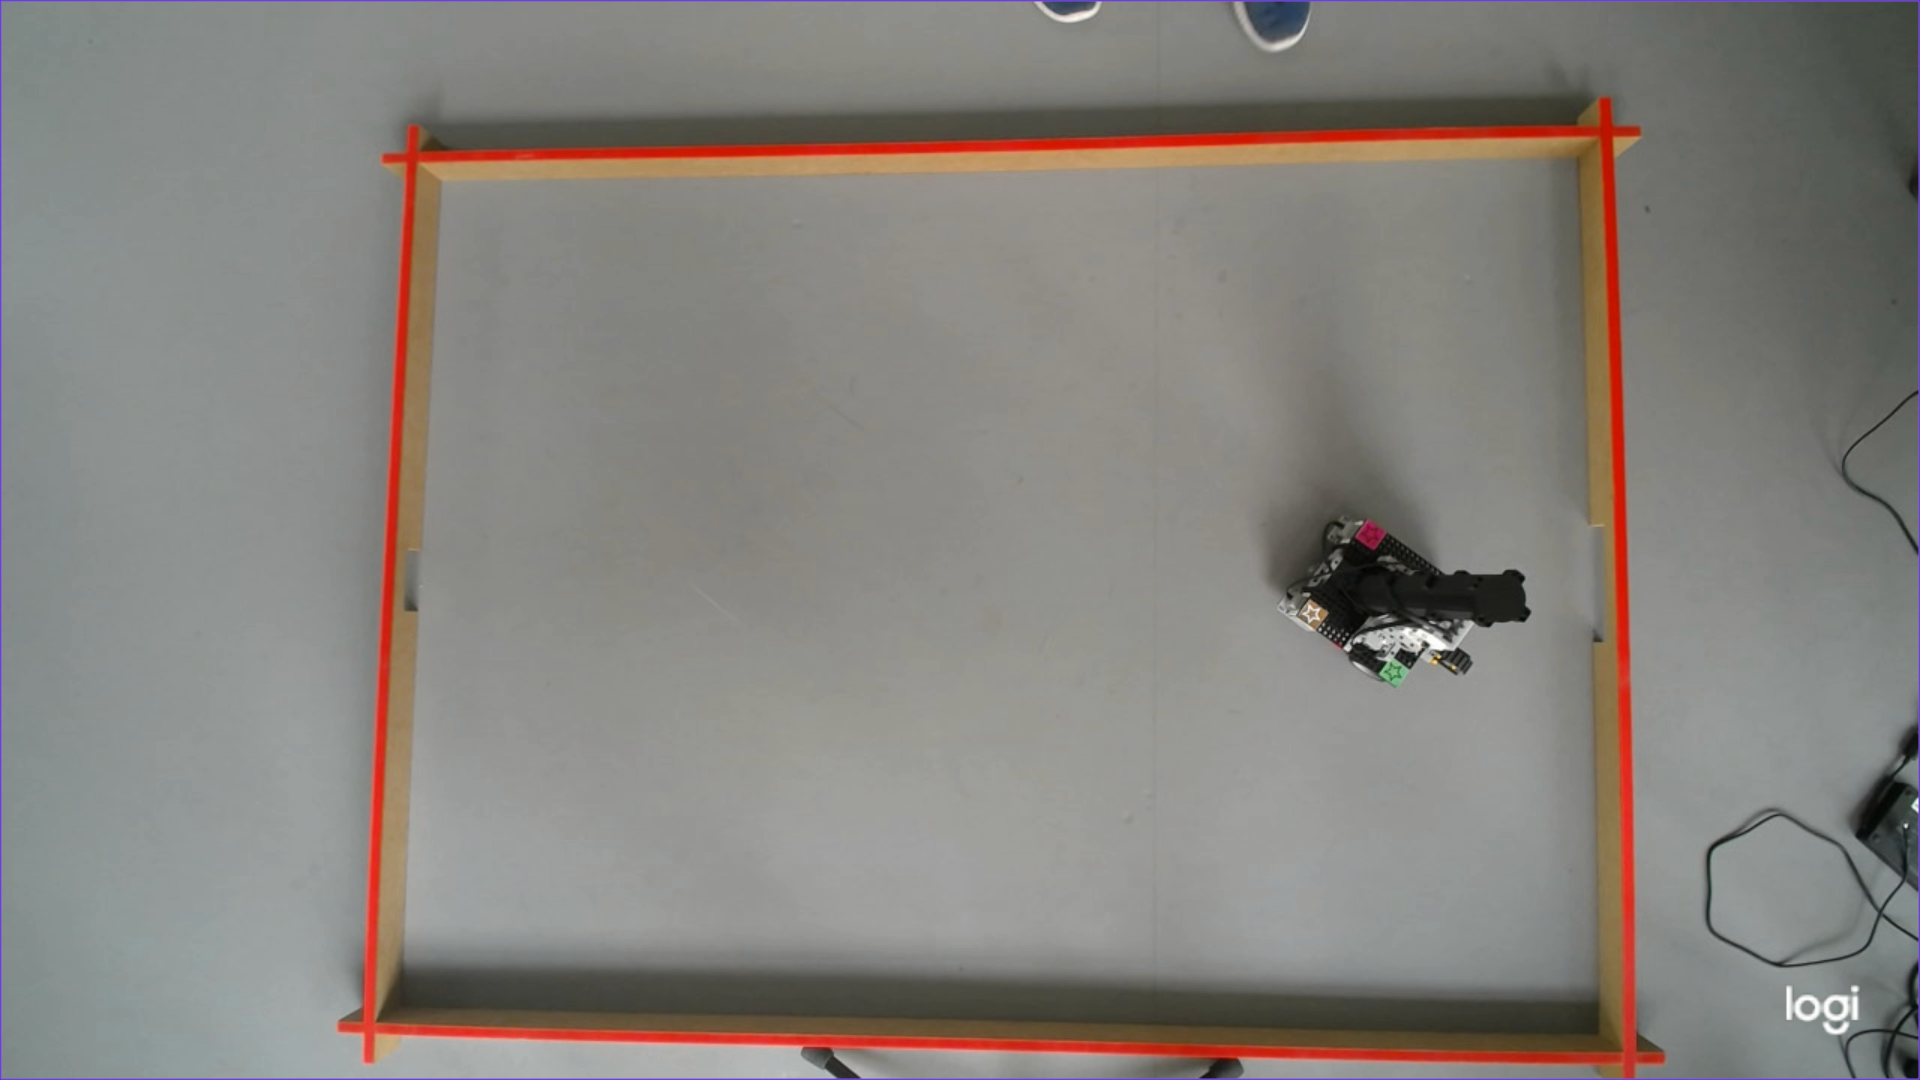corner_brown: (1298, 597, 1327, 628)
corner_green: (1379, 659, 1408, 687)
corner_pink: (1356, 518, 1385, 549)
playfield: (342, 131, 1640, 1072)
playfield_corner: (396, 136, 433, 175), (1589, 109, 1626, 149), (1613, 1035, 1650, 1075), (351, 1005, 388, 1044)
